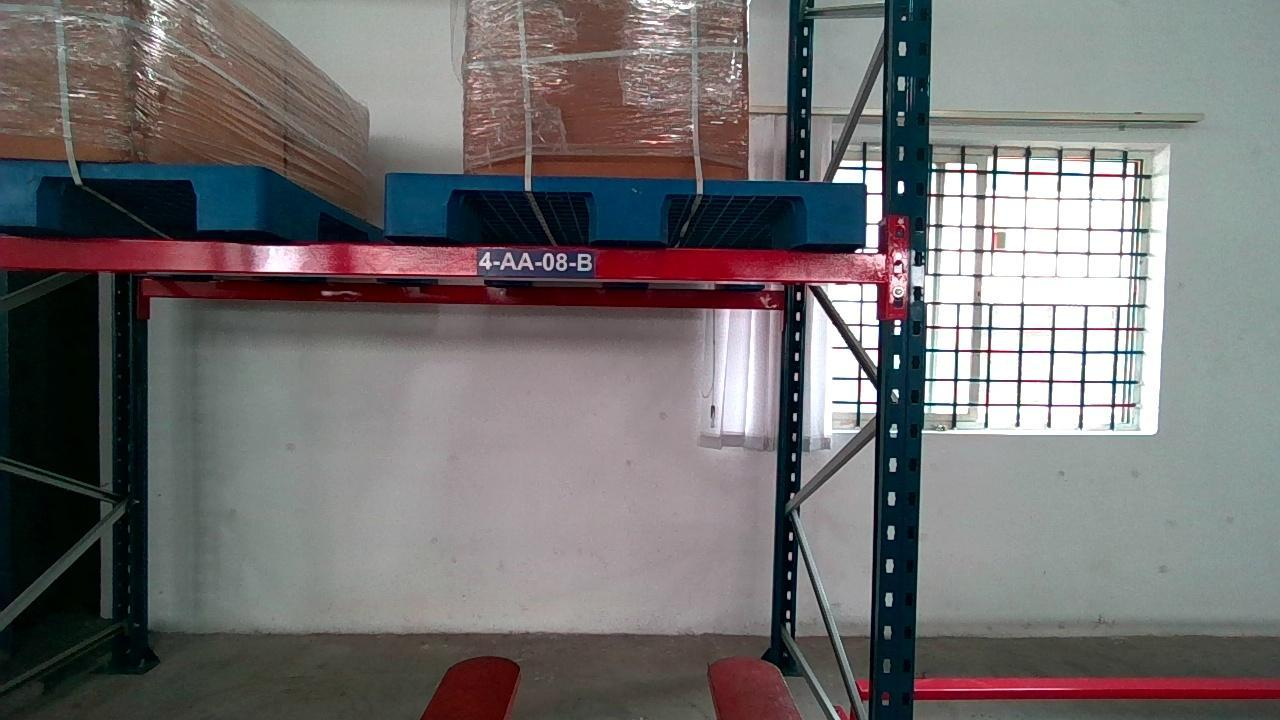h_rack: (0, 237, 886, 282)
small_pallet: (384, 173, 864, 242), (0, 162, 264, 226)
